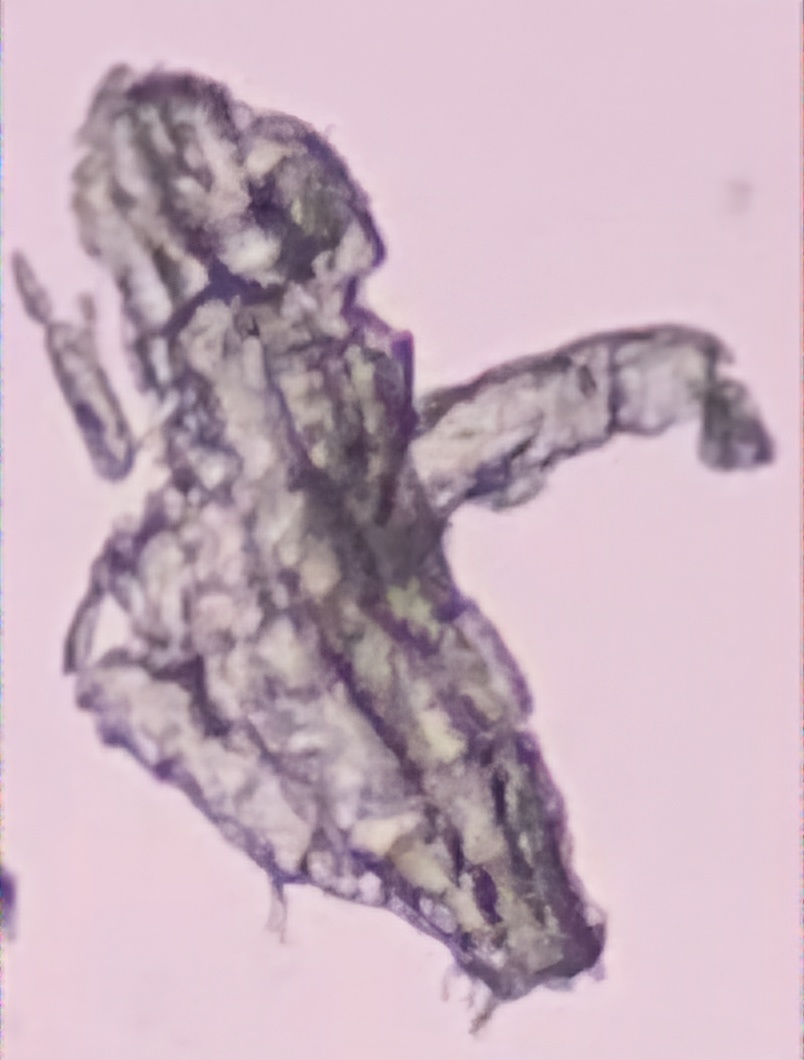microplastic: (10, 47, 796, 1043)
